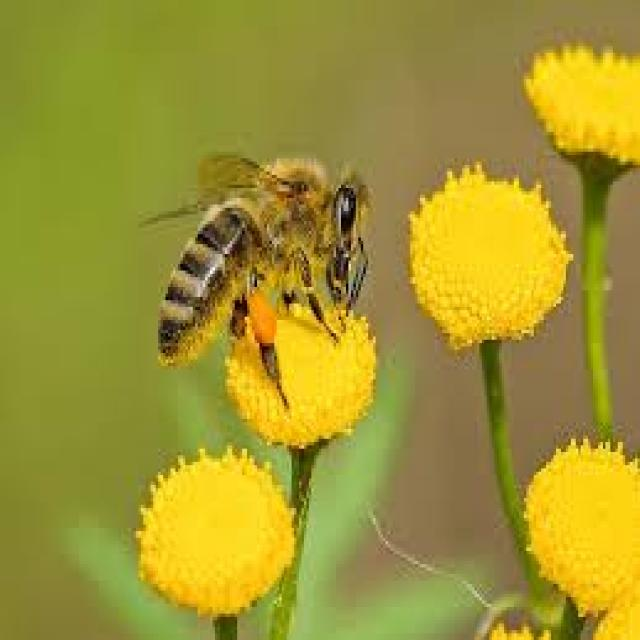Bees: (136, 147, 374, 410)
